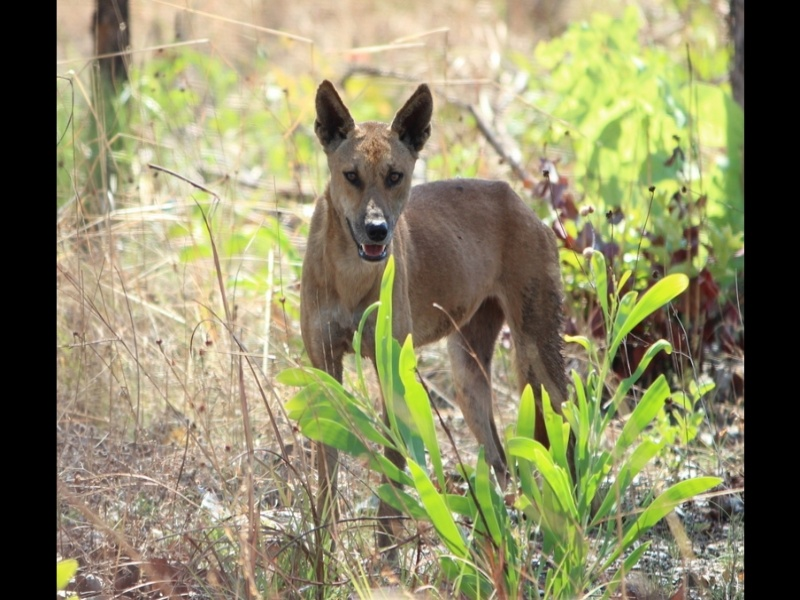dog: (296, 73, 572, 574)
